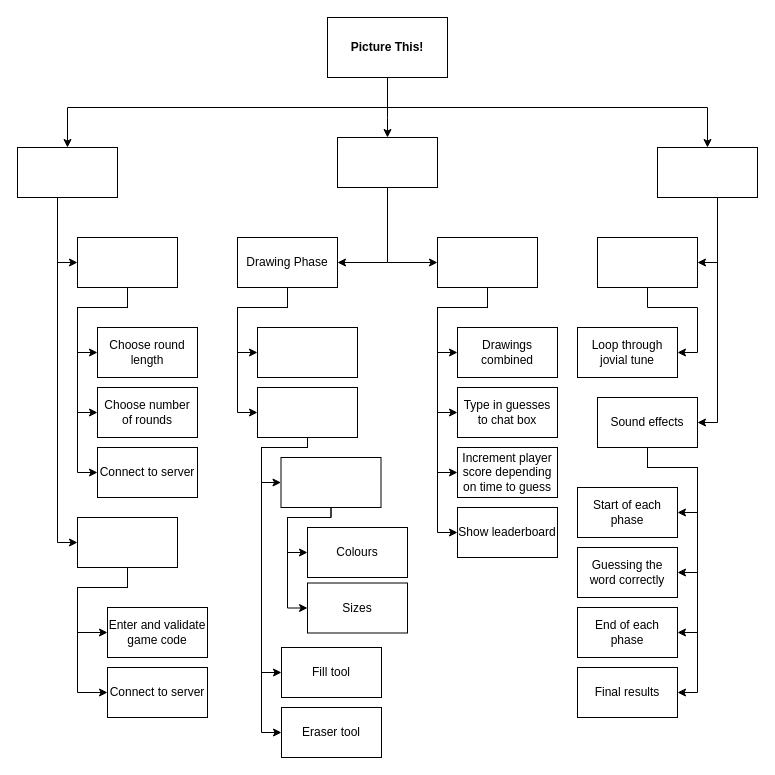
This 775x775 diagram has some shape labels left out. Each missing label, with the box of its shape:
Background Music: (596, 236, 698, 288)
Brush tools: (280, 456, 381, 508)
Create Game: (76, 236, 178, 288)
Game: (336, 136, 438, 188)
Guessing Phase: (436, 236, 538, 288)
Join Game: (76, 516, 178, 568)
Menu: (16, 146, 118, 198)
Random word assigned: (256, 326, 358, 378)
Sound: (656, 146, 758, 198)
Use tools to create drawing: (256, 386, 358, 438)
